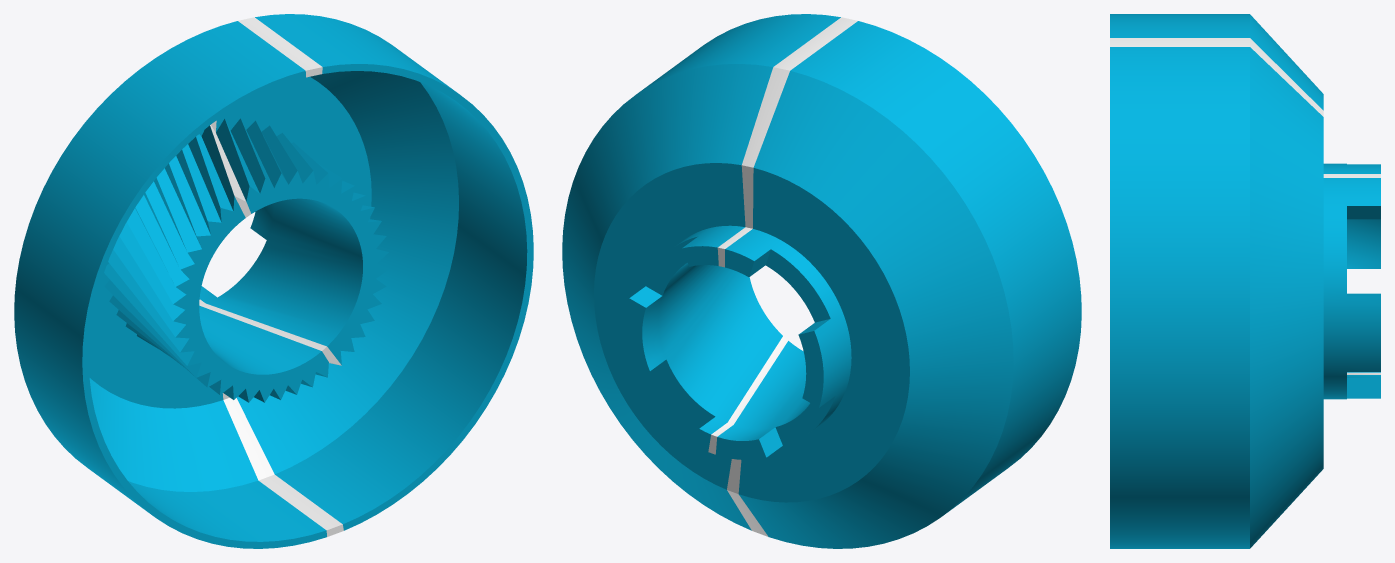
3 renders of one model, left to right at view 1: azimuth 30°, elevation 25°; view 2: azimuth 150°, elevation 25°; view 3: azimuth 270°, elevation 25°, orthographic. The views are drawn at different scales.
Visible parts, largest first — view 1: 678; view 2: 678; view 3: 678.
Boxes of the visible parts, bbox=[...] form: 678: bbox=[14, 14, 533, 548]; 678: bbox=[562, 14, 1081, 548]; 678: bbox=[1110, 14, 1380, 548].
Size of the model in its own units: 1377 by 1377 by 697.
